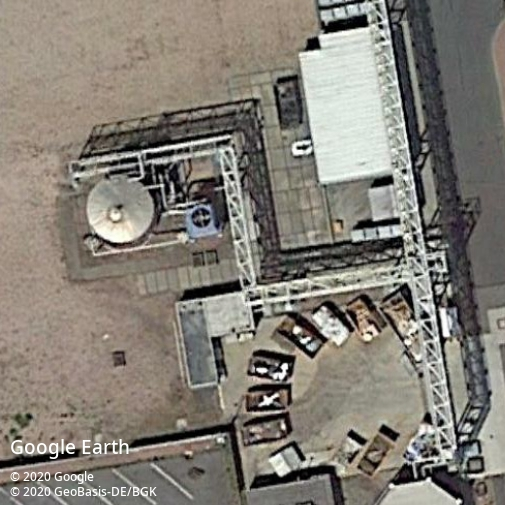Vent: (189, 205, 213, 229)
